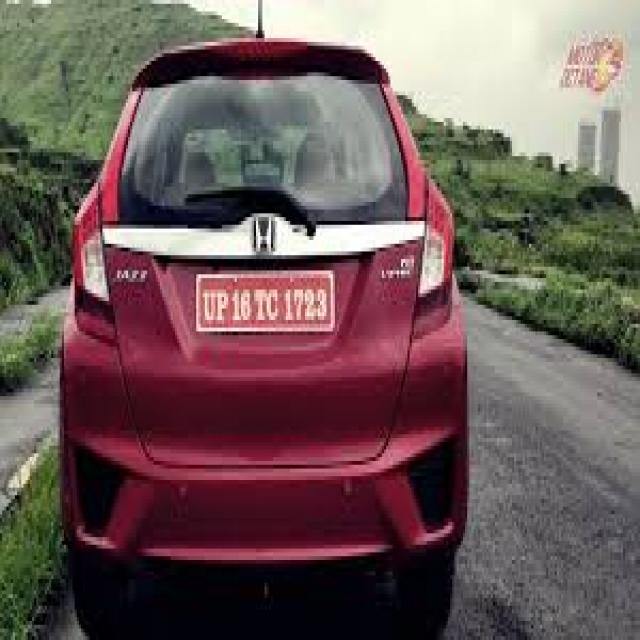Number-Plate: (198, 277, 334, 329)
